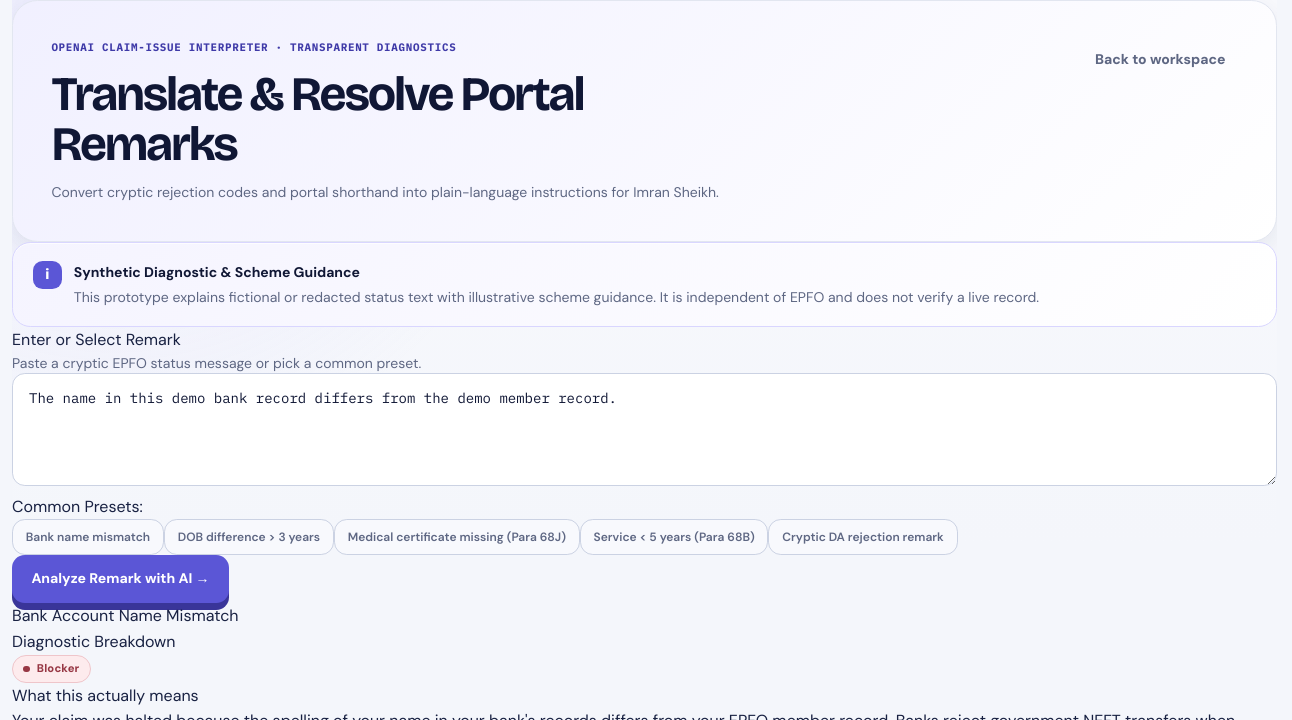
Test: ClaimIssueInterpreter › labels rate-limited AI behavior and keeps the local guidance usable
Click the button "Analyze Remark with AI →": (120, 579) [12,555,229,603]
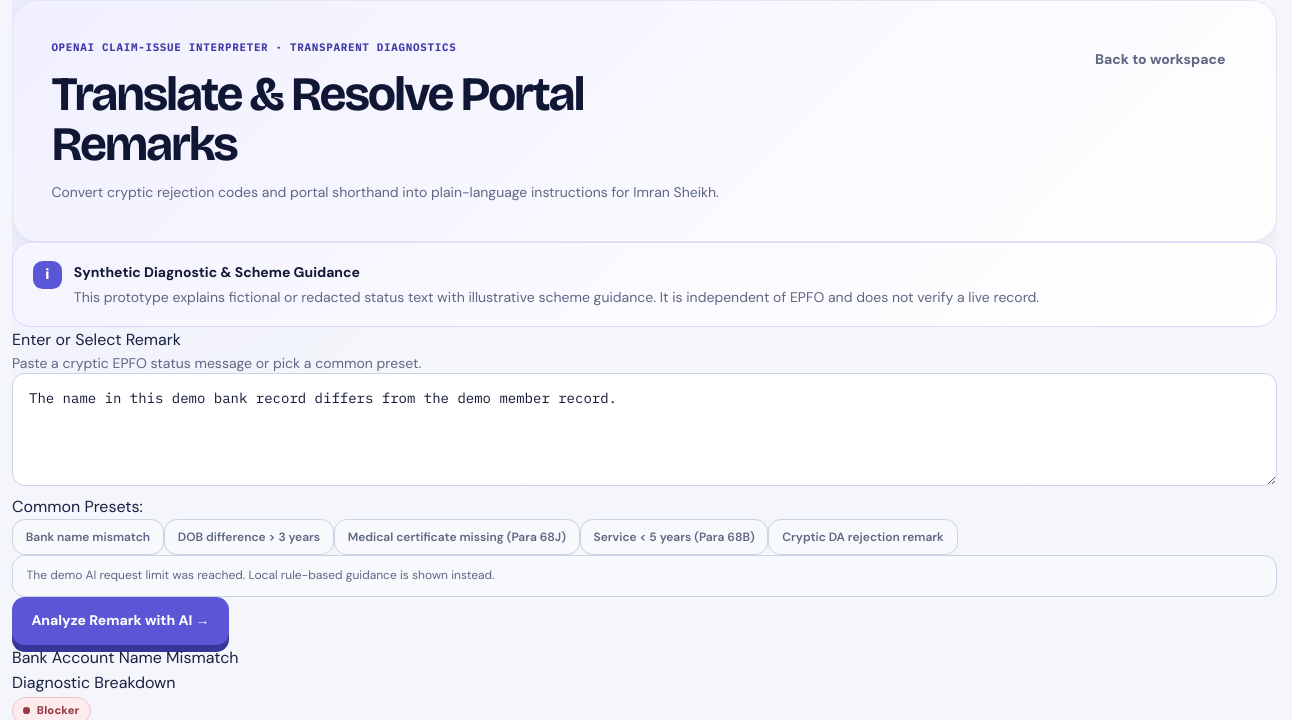
expect the heading "Diagnostic Breakdown" is shown: met, box [12,672,176,693]
expect the text "The demo AI request limit was reached. Local rule-based guidance is shown instead." is shown: met, box [27,567,494,583]
